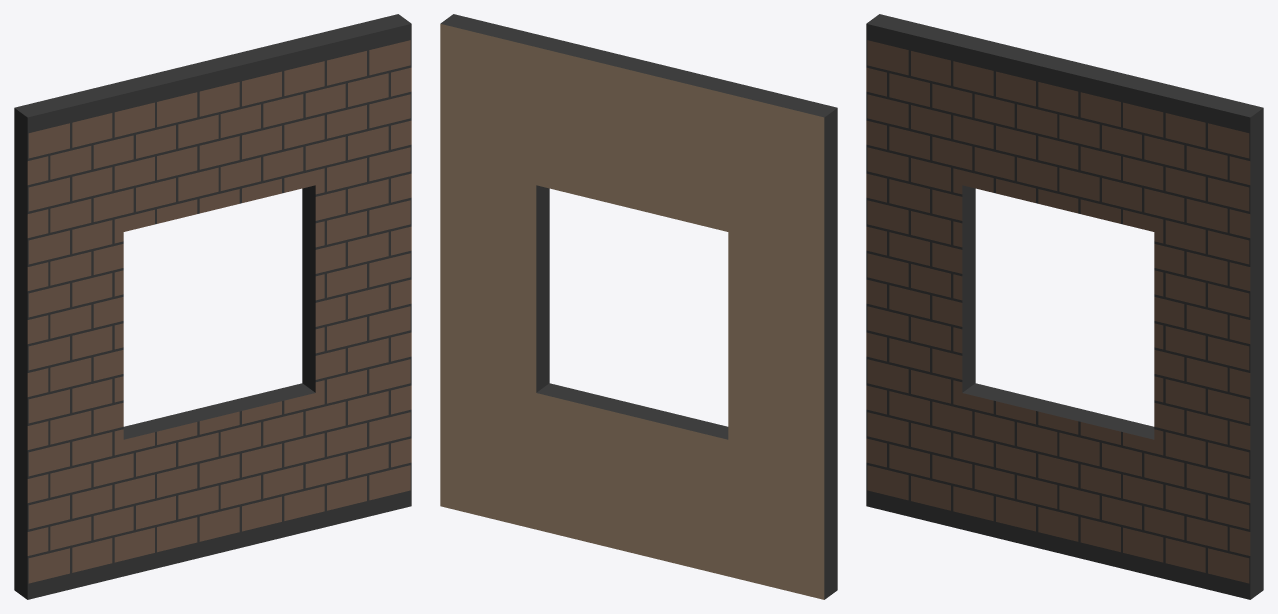
The model's file is Wall3_C10_04.fbx.
The picture shows the model from 3 angles, left to right: view 1: azimuth 30°, elevation 25°; view 2: azimuth 150°, elevation 25°; view 3: azimuth 330°, elevation 25°; orthographic projection.
Parts seen in each view (by area): view 1: Wall3_C10_04; view 2: Wall3_C10_04; view 3: Wall3_C10_04.
Boxes of the visible parts, box(x1,y1,x2,y2) form: Wall3_C10_04: box(14, 14, 411, 599); Wall3_C10_04: box(440, 14, 837, 599); Wall3_C10_04: box(866, 14, 1263, 599).
Size of the model in its own units: 250 by 300 by 15.
